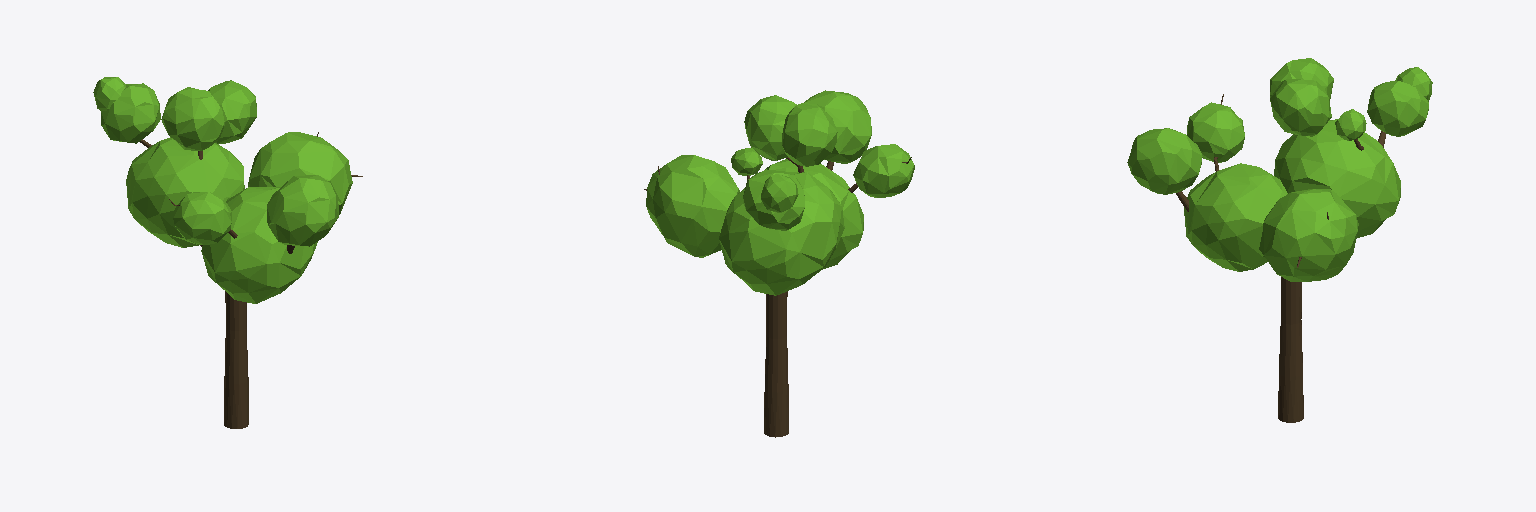
The picture shows the model from 3 angles: view 1: azimuth 30°, elevation 25°; view 2: azimuth 150°, elevation 25°; view 3: azimuth 270°, elevation 25°; orthographic projection.
Parts seen in each view (by area): view 1: Sphere.002_Sphere.005, Cylinder; view 2: Sphere.002_Sphere.005, Cylinder; view 3: Sphere.002_Sphere.005, Cylinder.
Part boxes in pixels (x1,y1,x2,y2): Sphere.002_Sphere.005: (93,77,352,303); Cylinder: (140,132,362,428); Sphere.002_Sphere.005: (646,90,914,295); Cylinder: (644,157,911,437); Sphere.002_Sphere.005: (1127,58,1432,281); Cylinder: (1176,94,1385,422).
Size of the model in its own units: 4.14 by 5.79 by 4.75.
2 materials, 2 textured.